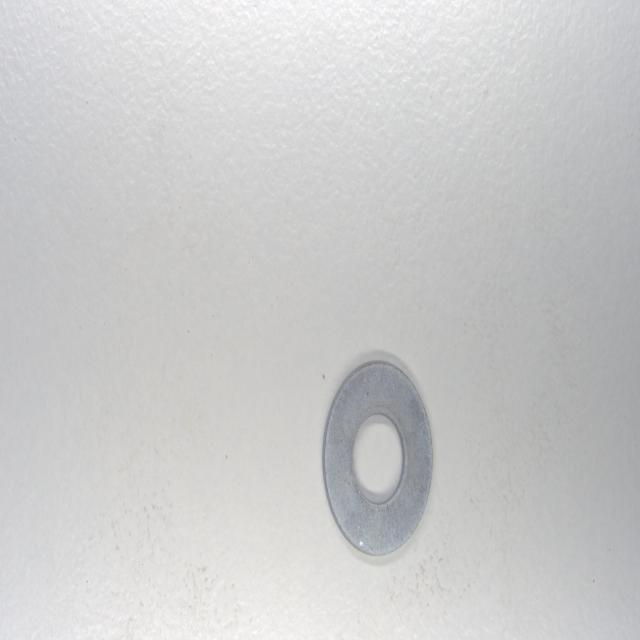washer: (320, 358, 437, 558)
